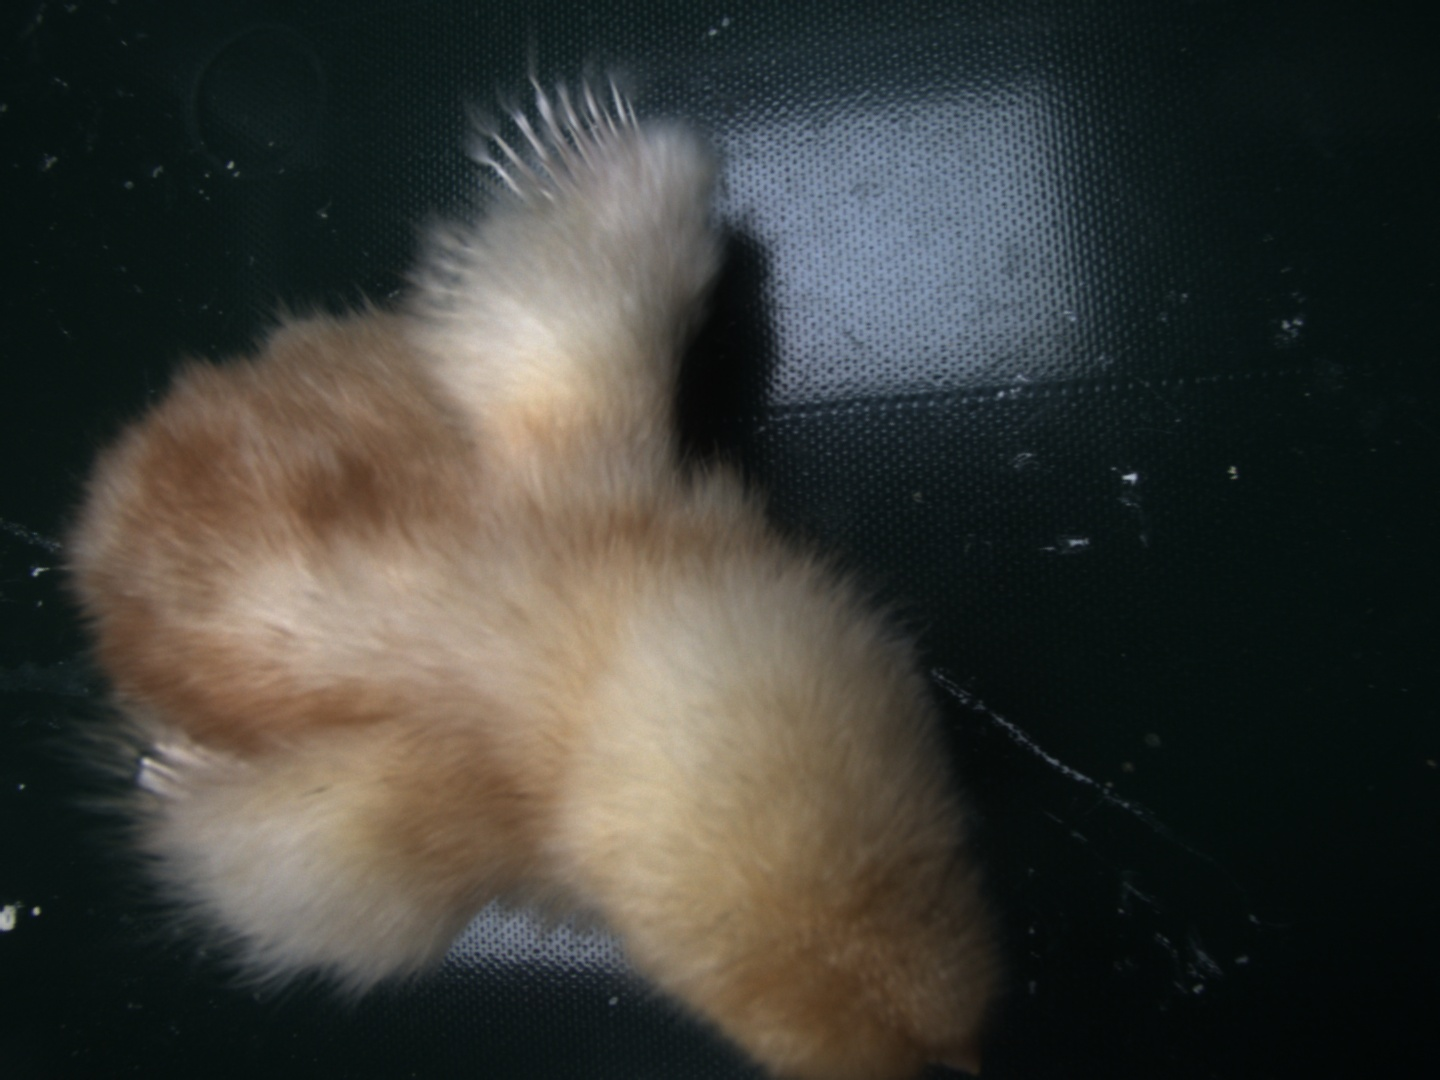female: (469, 68, 644, 205)
